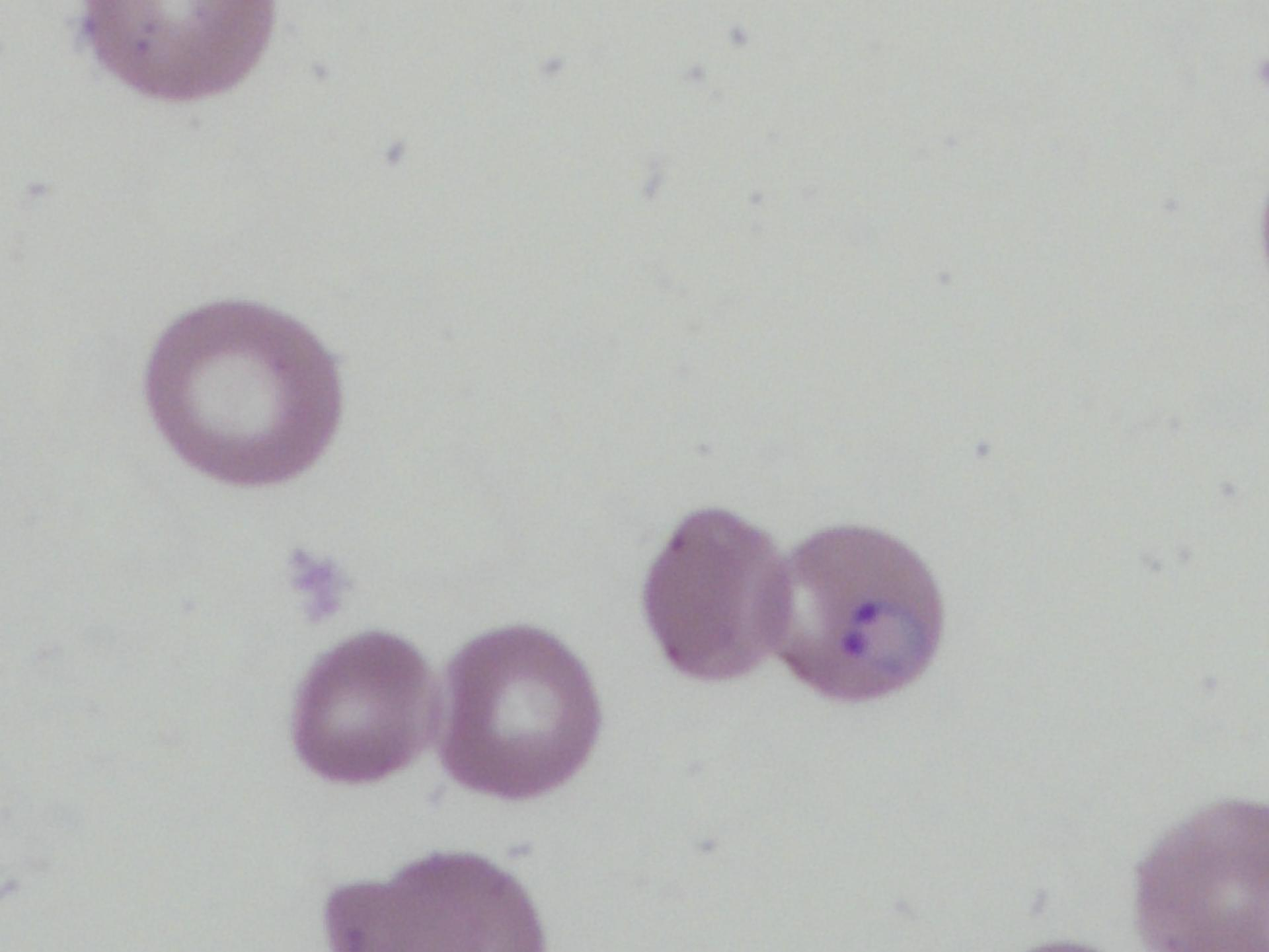Infected: (767, 531, 943, 702)
Uninfected: (154, 307, 342, 480), (427, 624, 601, 796), (639, 509, 789, 677), (297, 640, 449, 786)
